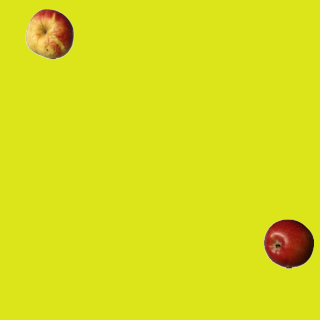Apple Braeburn: (263, 218, 313, 268)
Apple Red Yellow 1: (24, 8, 74, 58)
